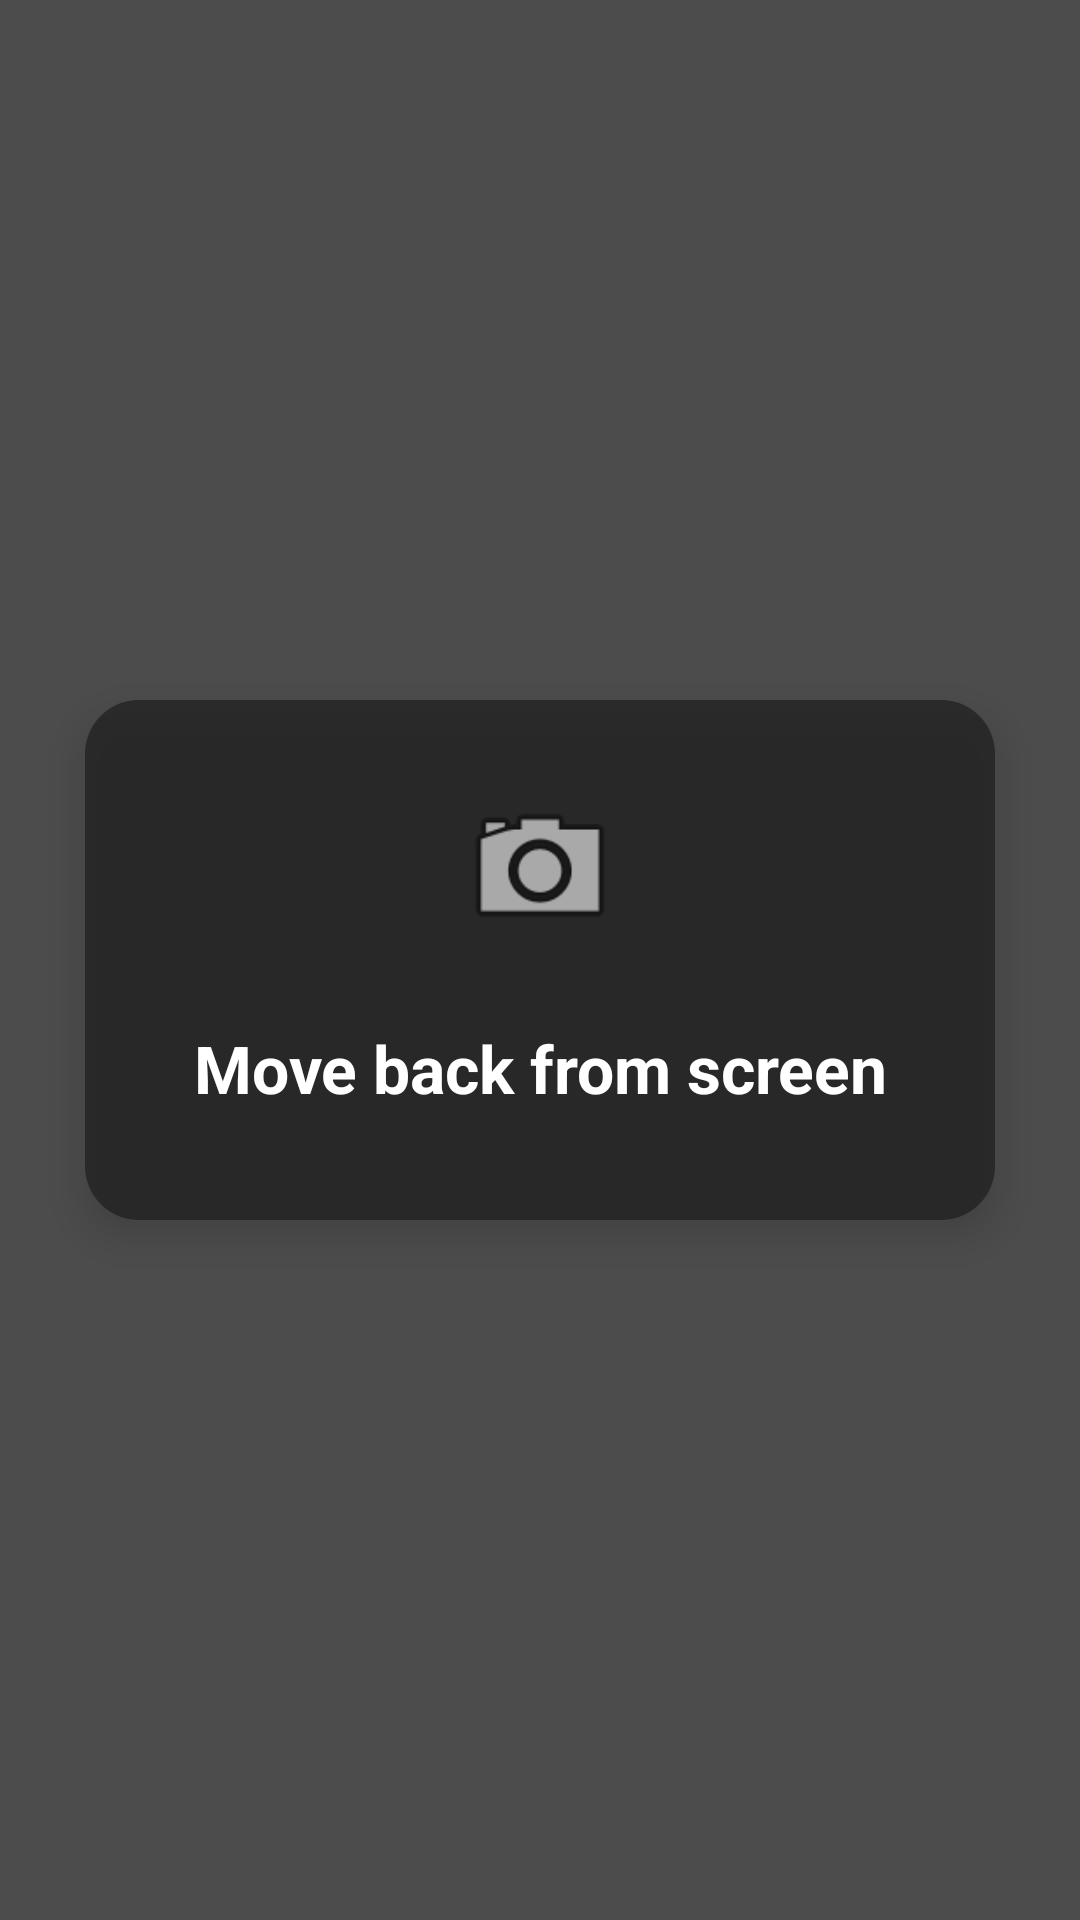

Screen size 1080w x 1920h. Icon name, then its box in pixels as bbox(x1, y1, x2, y2):
camera: bbox(480, 819, 600, 912)
